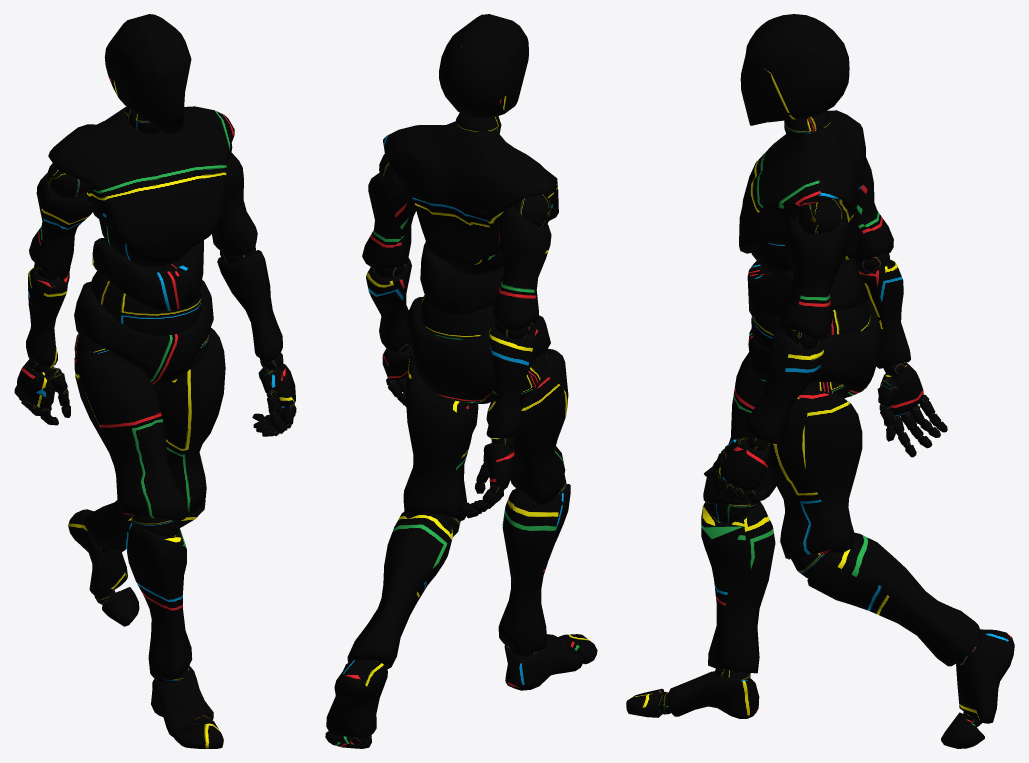
File: y-bot-origin_000010.obj
3 views of the same model, side by side, from view 1: azimuth 30°, elevation 25°; view 2: azimuth 150°, elevation 25°; view 3: azimuth 270°, elevation 25° (orthographic). The views are drawn at different scales.
Visible parts, largest first — view 1: Alpha_Surface_Alpha_SurfaceMesh, Alpha_Joints_Alpha_JointsMesh; view 2: Alpha_Surface_Alpha_SurfaceMesh, Alpha_Joints_Alpha_JointsMesh; view 3: Alpha_Surface_Alpha_SurfaceMesh, Alpha_Joints_Alpha_JointsMesh.
Boxes of the visible parts, bbox=[...] form: Alpha_Surface_Alpha_SurfaceMesh: bbox=[15, 14, 295, 748]; Alpha_Joints_Alpha_JointsMesh: bbox=[14, 107, 296, 724]; Alpha_Surface_Alpha_SurfaceMesh: bbox=[325, 14, 597, 748]; Alpha_Joints_Alpha_JointsMesh: bbox=[349, 113, 568, 745]; Alpha_Surface_Alpha_SurfaceMesh: bbox=[626, 14, 1014, 748]; Alpha_Joints_Alpha_JointsMesh: bbox=[658, 111, 981, 726].
Size of the model in its own units: 0.5582 by 1.75 by 0.8801.
